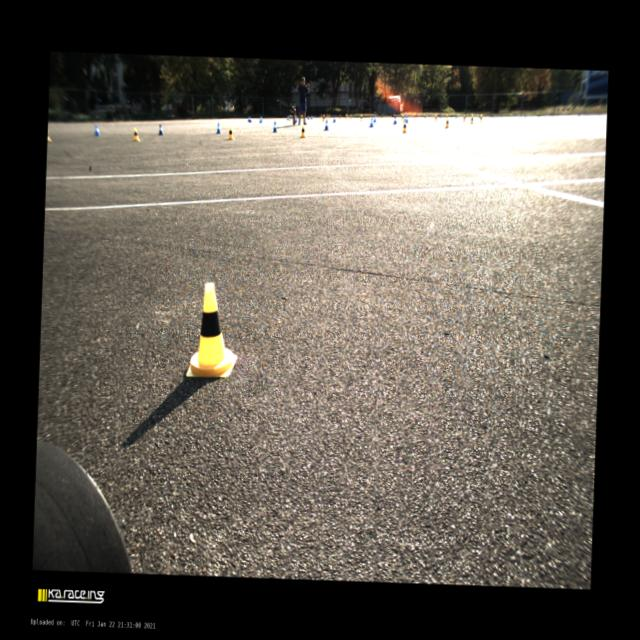blue_cone: (94, 124, 100, 136), (158, 124, 164, 134), (216, 122, 221, 134), (324, 119, 329, 130), (368, 116, 373, 126), (392, 114, 397, 124), (272, 121, 276, 132), (402, 115, 406, 122), (259, 115, 262, 124), (373, 114, 376, 123), (248, 116, 252, 122), (332, 115, 335, 123), (405, 114, 408, 122), (286, 114, 289, 120), (439, 113, 442, 118), (307, 114, 309, 120), (294, 116, 296, 122), (310, 114, 312, 119), (347, 114, 349, 118)
yellow_cone: (185, 281, 239, 378), (133, 128, 140, 141), (228, 128, 235, 139), (300, 126, 306, 138), (402, 121, 406, 132), (444, 118, 448, 128), (470, 114, 473, 124), (479, 113, 482, 122), (359, 114, 362, 122), (401, 114, 404, 122), (462, 114, 465, 122), (288, 114, 291, 121), (300, 114, 303, 120), (319, 113, 322, 119), (338, 114, 341, 120), (349, 113, 352, 119), (434, 114, 436, 122), (322, 115, 324, 122), (344, 114, 346, 120), (446, 114, 448, 119), (328, 114, 330, 118), (326, 114, 328, 118), (422, 114, 424, 118)
